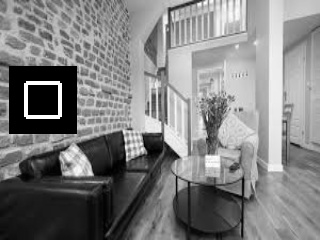square: (9, 66, 77, 134)
